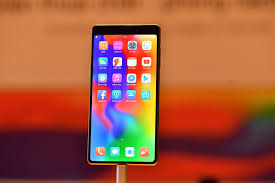bphone: (85, 21, 161, 166)
